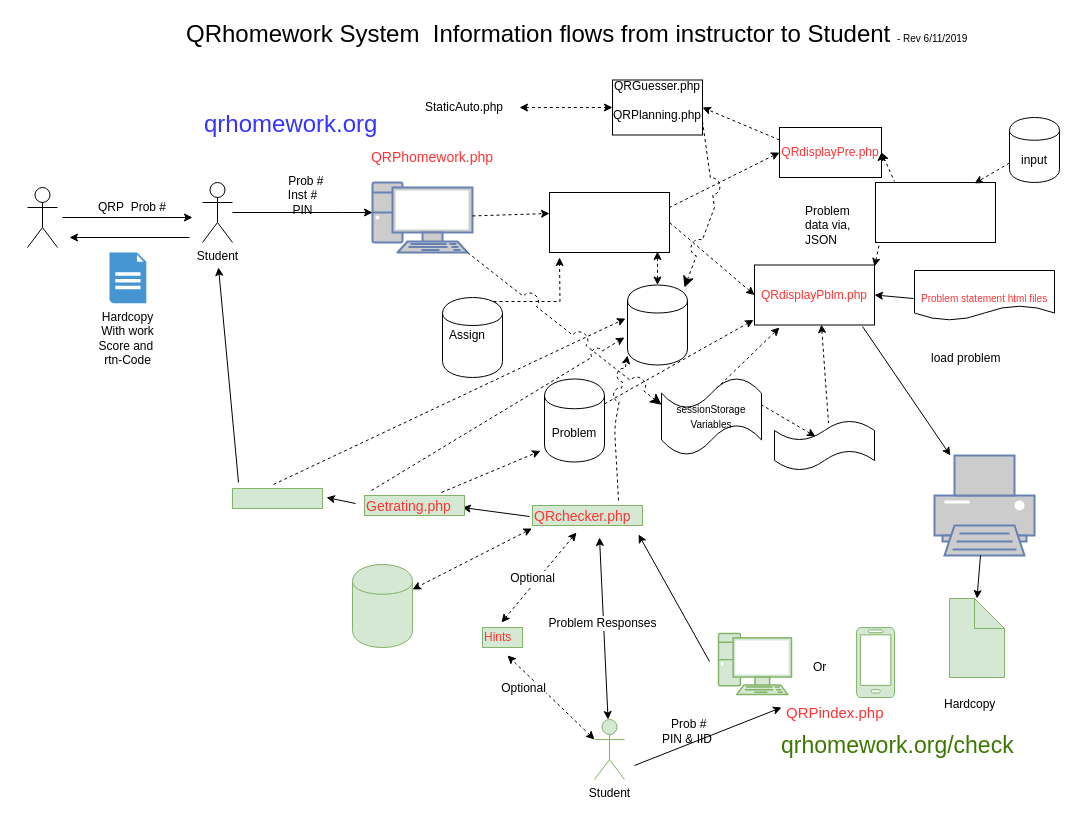
Some shapes in this 1077 by 817 pixel diagram are drawn without their labels. Here are the shapes that lost their labels. From the top down, the centre of each, then its label:
At (42,217): "Instructor".
At (609,222): "QRController.php".
At (935,212): "fetchpblminput.php".
At (657,324): "Activity".
At (824,445): "Substvars.js".
At (277,498): "rtnCode.php".
At (382,606): "Qa".
